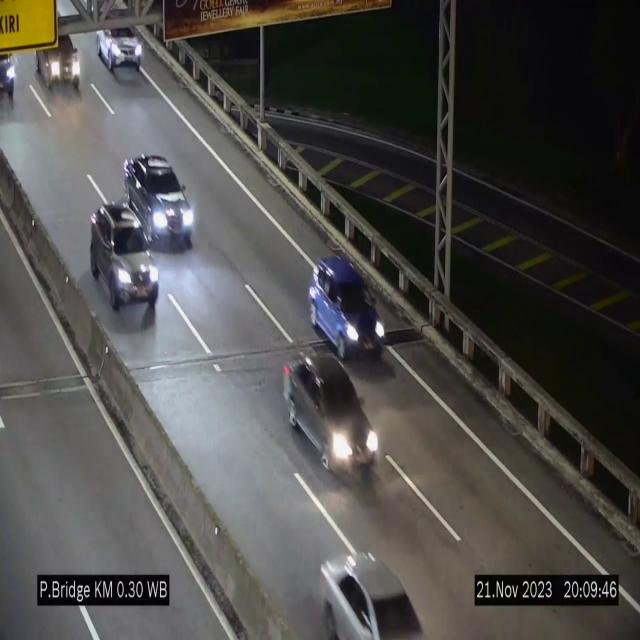Car: (282, 354, 378, 484), (320, 533, 430, 640), (308, 255, 387, 359), (91, 203, 158, 314), (125, 152, 195, 246), (98, 0, 156, 87), (33, 22, 92, 96), (0, 38, 31, 103)
